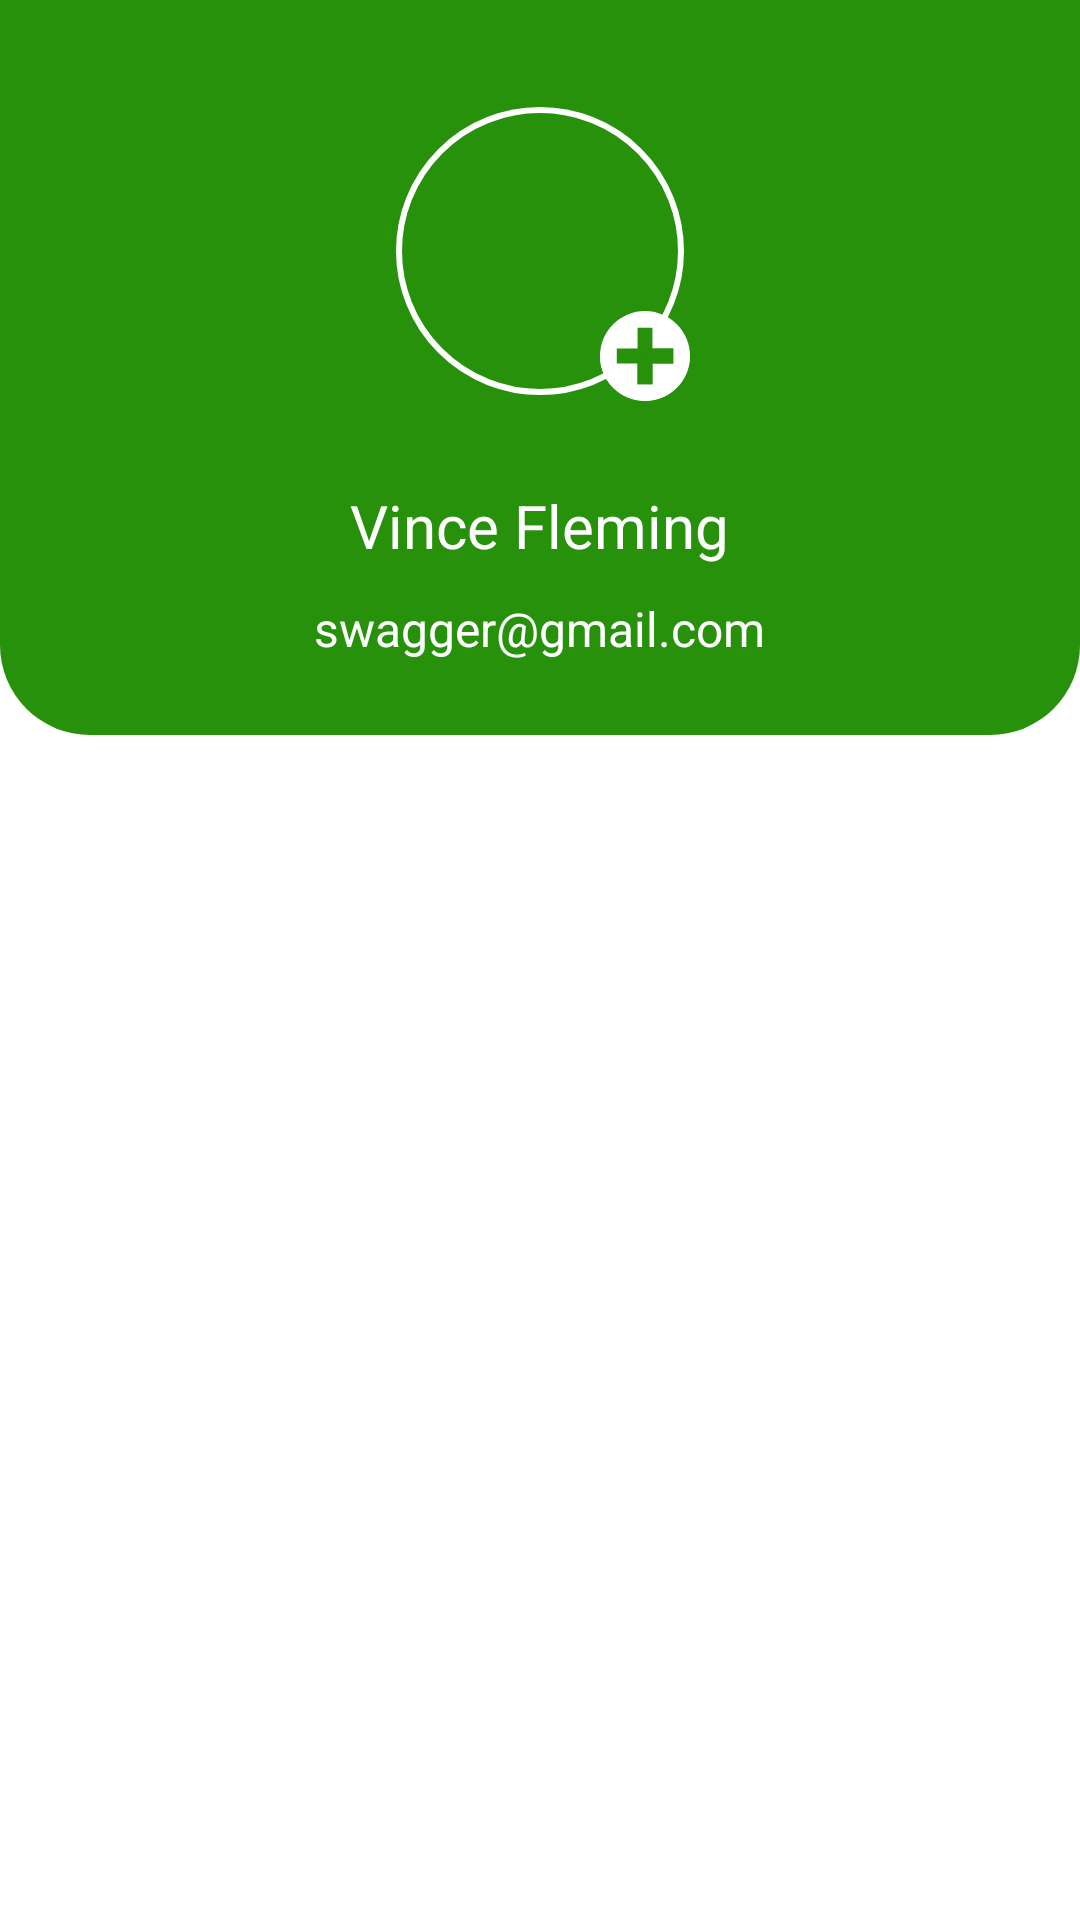

Point at icon controls on the screen. Image size 1080x1920, points as [x,y].
plus: [645,356]
